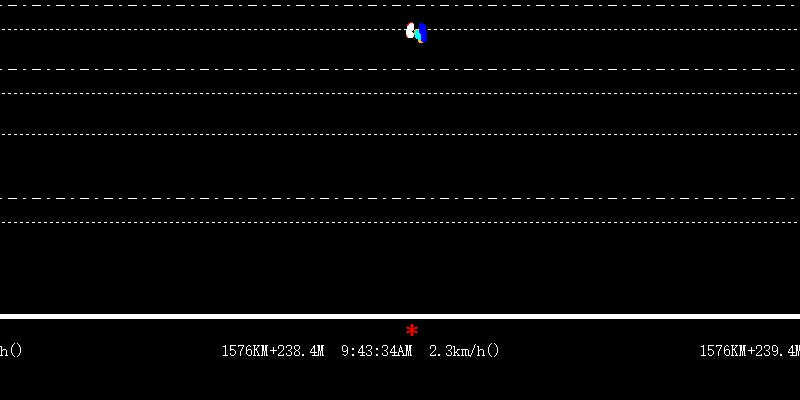face_2: (404, 21, 428, 45)
star: (405, 320, 419, 336)
